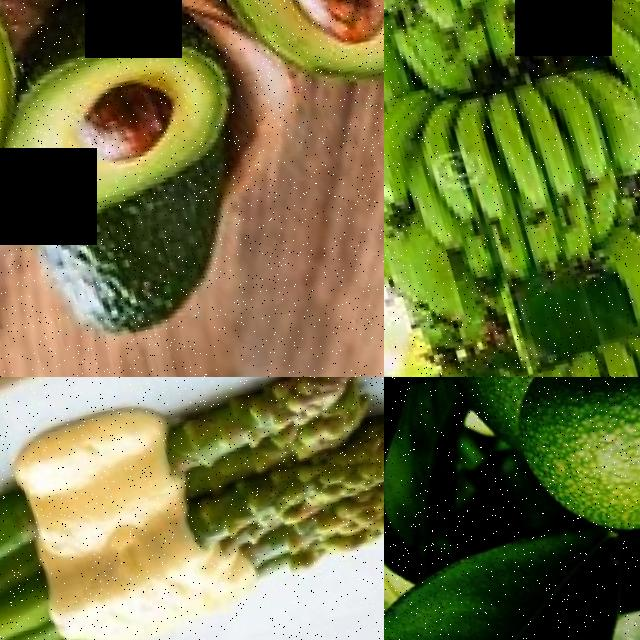asparagus: (239, 398, 384, 544), (178, 377, 352, 473)
avocado: (18, 115, 302, 366), (0, 0, 280, 242), (131, 0, 384, 137), (482, 377, 640, 569), (0, 0, 92, 320)
banana: (384, 25, 640, 357), (384, 0, 640, 145), (391, 263, 640, 377)
